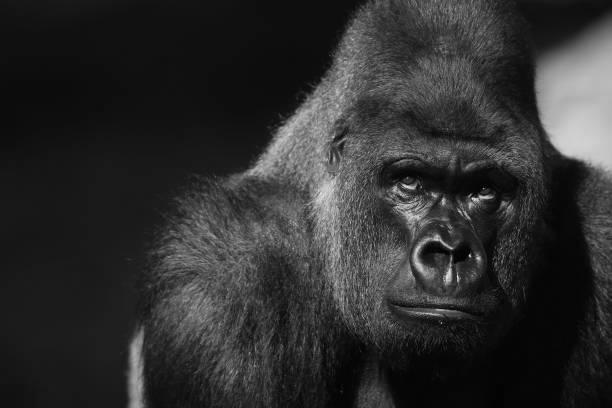gorille_Autres: (159, 2, 612, 408)
